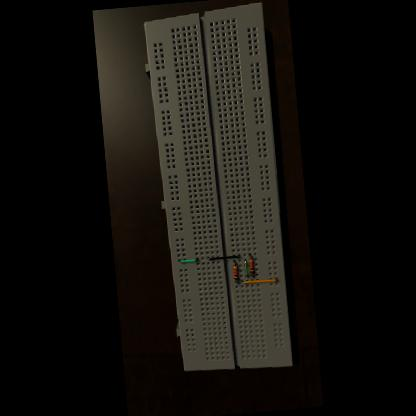breadboard: (141, 1, 294, 375)
resistor: (234, 264, 239, 279), (249, 258, 254, 273)
wire: (243, 276, 278, 282), (209, 254, 240, 260), (180, 258, 199, 262), (245, 258, 248, 276), (234, 260, 236, 264), (250, 253, 251, 258), (252, 274, 254, 276), (237, 280, 238, 282)
